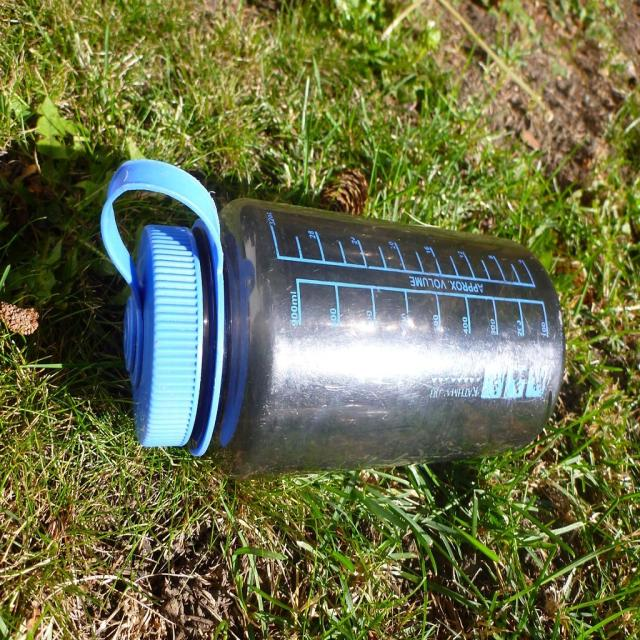plastic_bottle: (99, 157, 566, 481)
